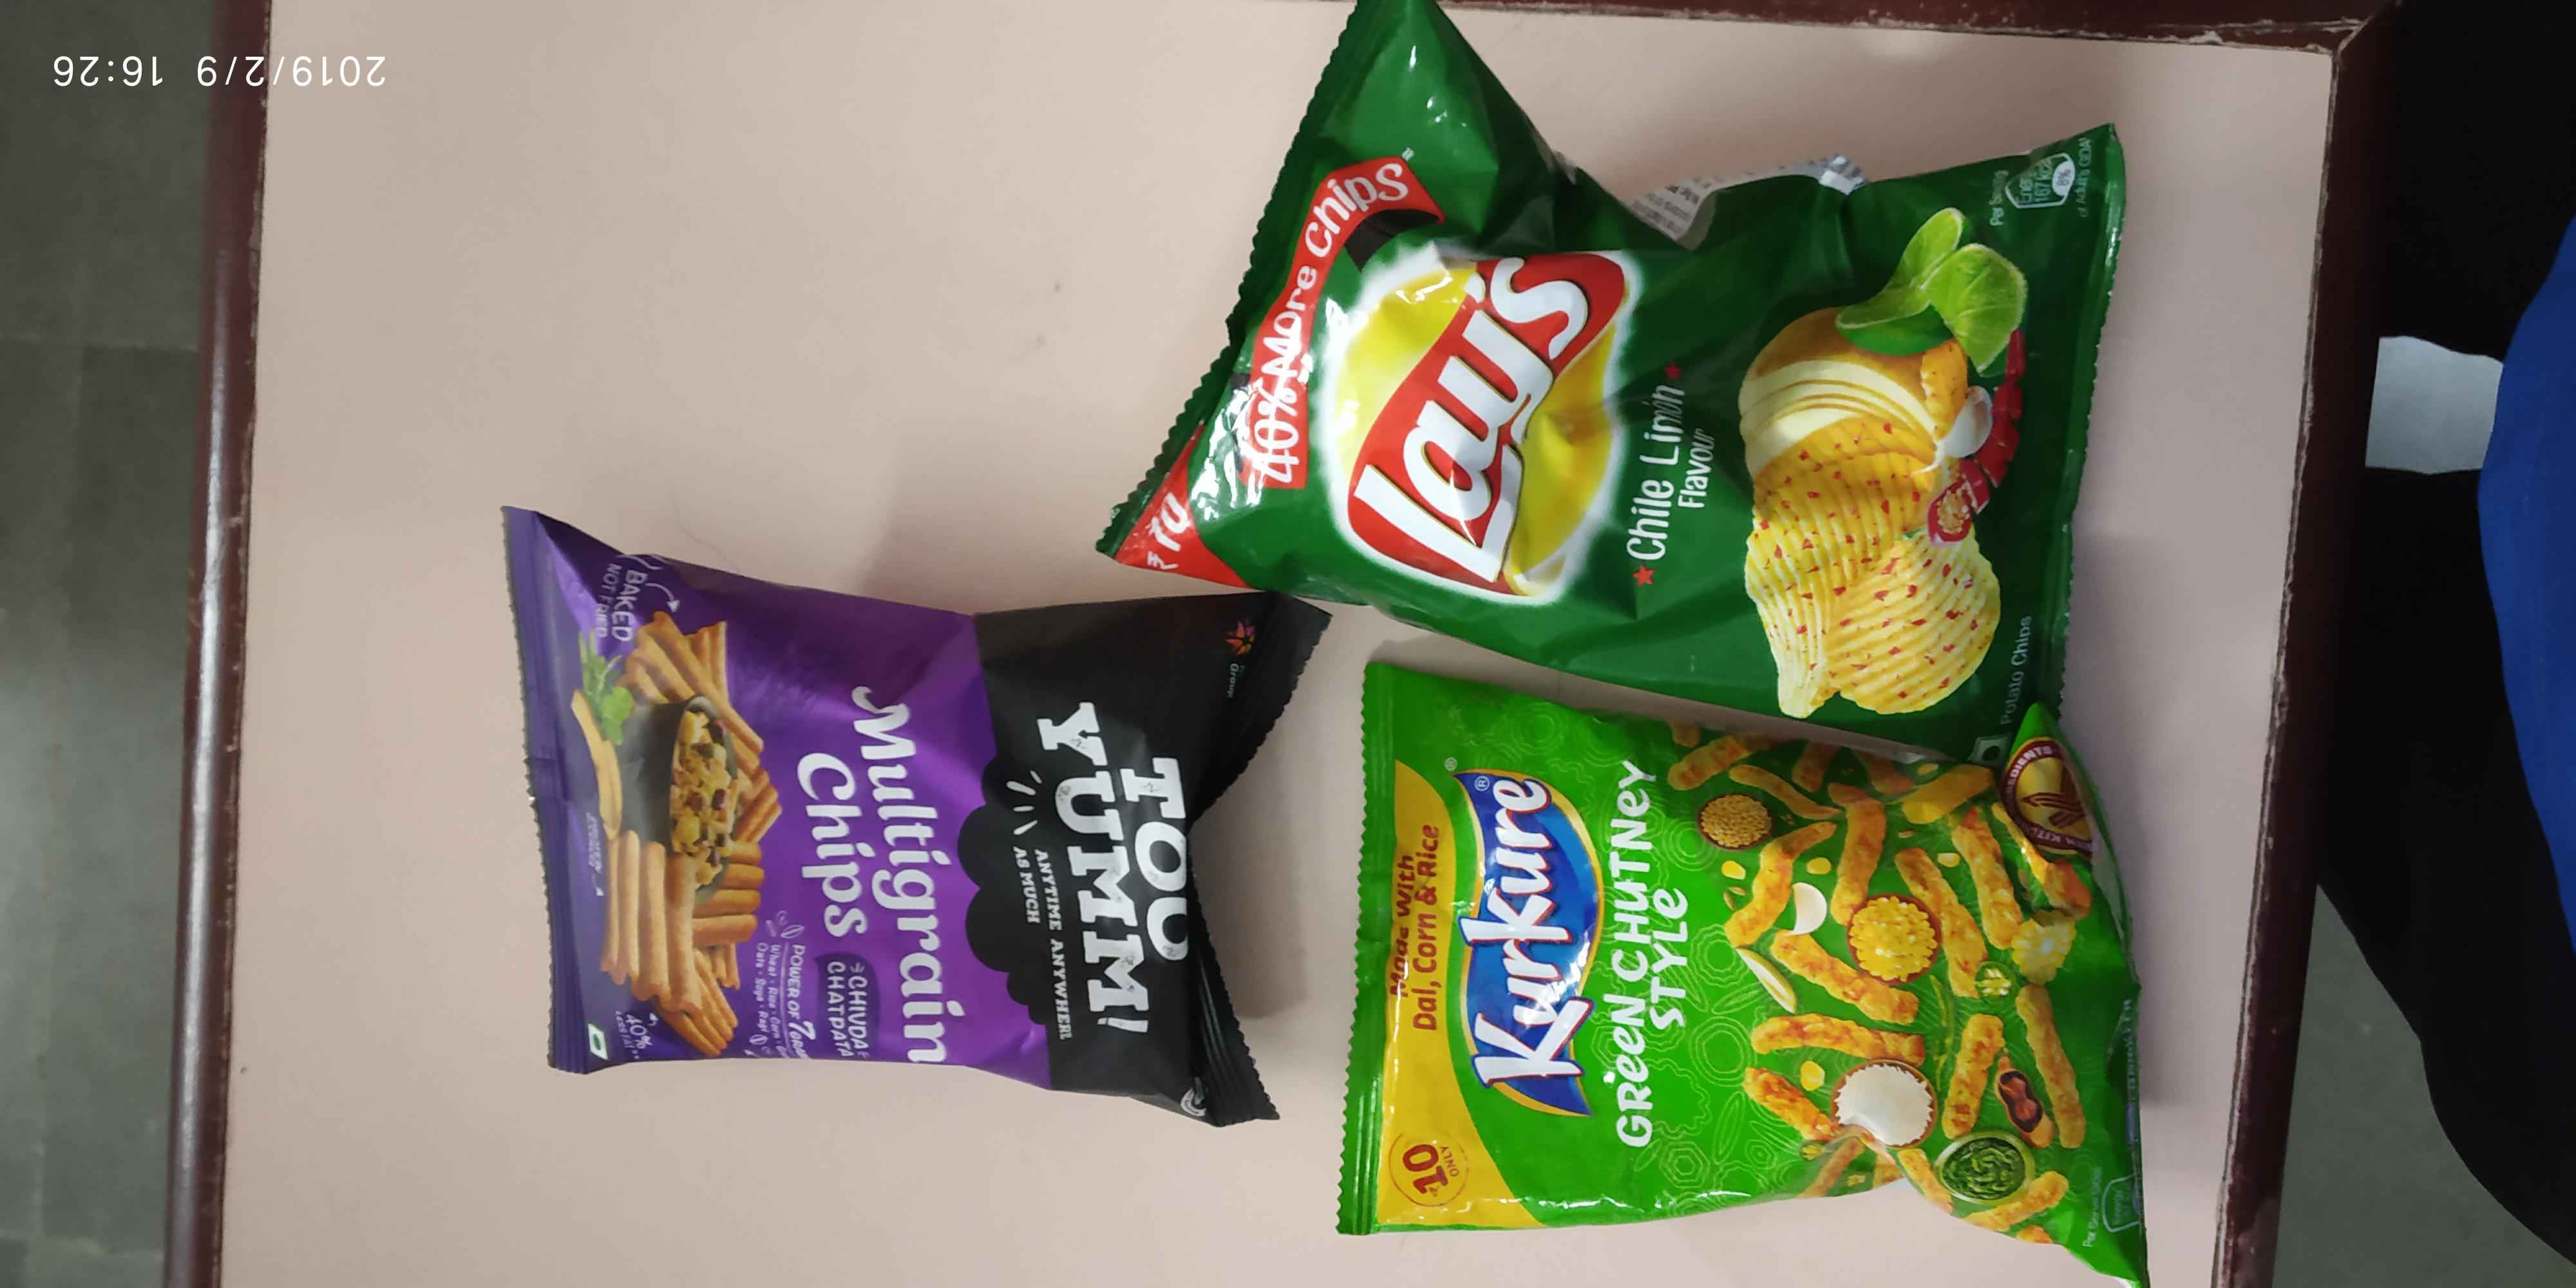Lays: (1329, 209, 1640, 619)
kurkure: (1442, 744, 1617, 1130)
tooyumm: (1022, 680, 1211, 1043)
